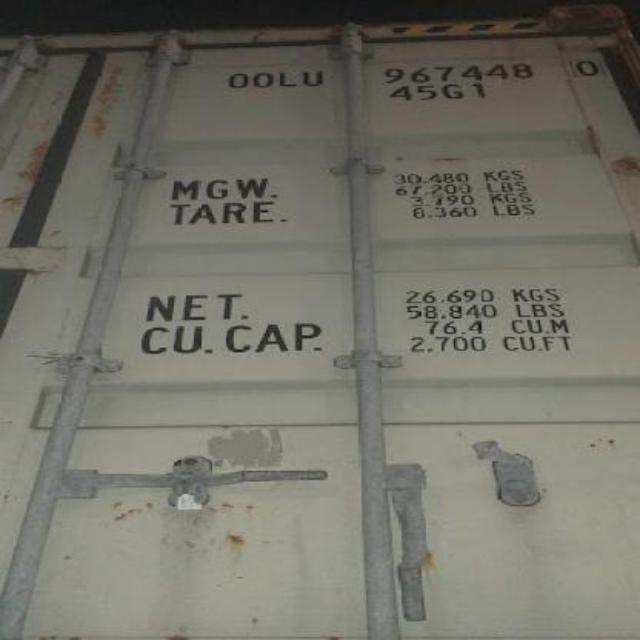0: (568, 56, 608, 76)
4: (454, 60, 486, 82), (486, 58, 506, 84)
6: (406, 63, 436, 87)
7: (436, 61, 456, 81)
8: (510, 59, 542, 85)
9: (378, 64, 402, 86)
L: (274, 68, 298, 92)
O: (220, 64, 248, 92), (250, 62, 276, 92)
U: (298, 65, 328, 91)
